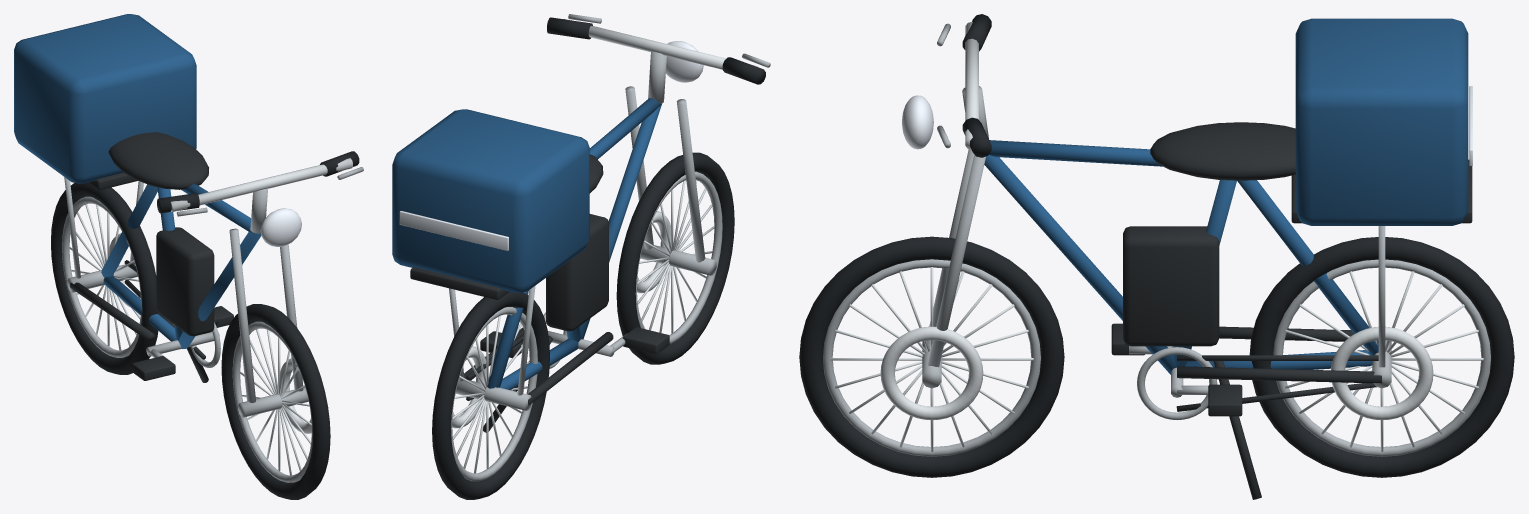
Rendered from delivery-ebike.glb.
The picture shows the model from 3 angles, left to right: view 1: azimuth 30°, elevation 25°; view 2: azimuth 150°, elevation 25°; view 3: azimuth 270°, elevation 25°; orthographic projection. The views are drawn at different scales.
Visible parts, largest first — view 1: Frame, Swing arm, Rim, wheel-front, Spoke, wheel-rear, Reflective strip, Grip; view 2: Frame, Rim, Swing arm, Spoke, wheel-rear, wheel-front, Reflective strip, Grip; view 3: Frame, Swing arm, Rim, Spoke, wheel-front, wheel-rear, Reflective strip, Grip.
Boxes of the visible parts, x1,y1,x2,y2 form: Frame: (14,14,261,348); Swing arm: (70,132,233,382); Rim: (62,167,363,482); wheel-front: (221,304,330,499); Spoke: (69,158,352,475); wheel-rear: (51,182,159,374); Reflective strip: (260,208,301,246); Grip: (157,151,359,213); Frame: (392,98,662,389); Rim: (449,14,770,481); Swing arm: (410,154,669,432); Spoke: (452,19,758,473); wheel-rear: (432,291,549,499); wheel-front: (616,152,734,364); Reflective strip: (399,41,703,250); Grip: (547,17,765,84); Frame: (984,18,1468,374); Swing arm: (1111,122,1472,499); Rim: (823,23,1490,456); Spoke: (830,21,1483,451); wheel-front: (799,236,1064,477); wheel-rear: (1249,237,1514,477); Reflective strip: (902,86,1472,165); Grip: (962,14,991,157).
Bounding box in the file's own units: 0.749 × 1.17 × 1.78.
